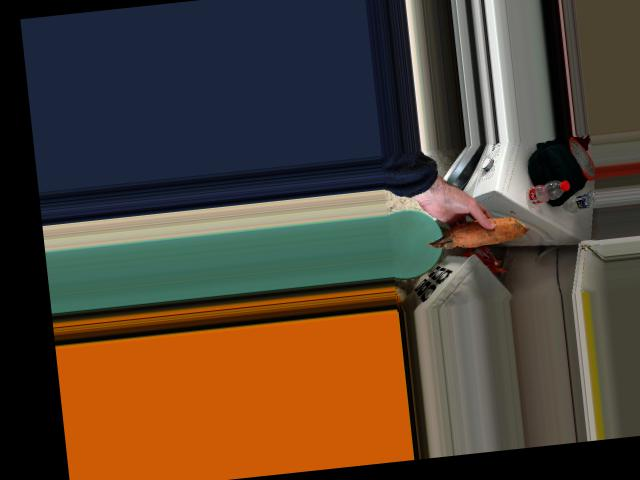sweet_potato: (428, 208, 517, 251)
